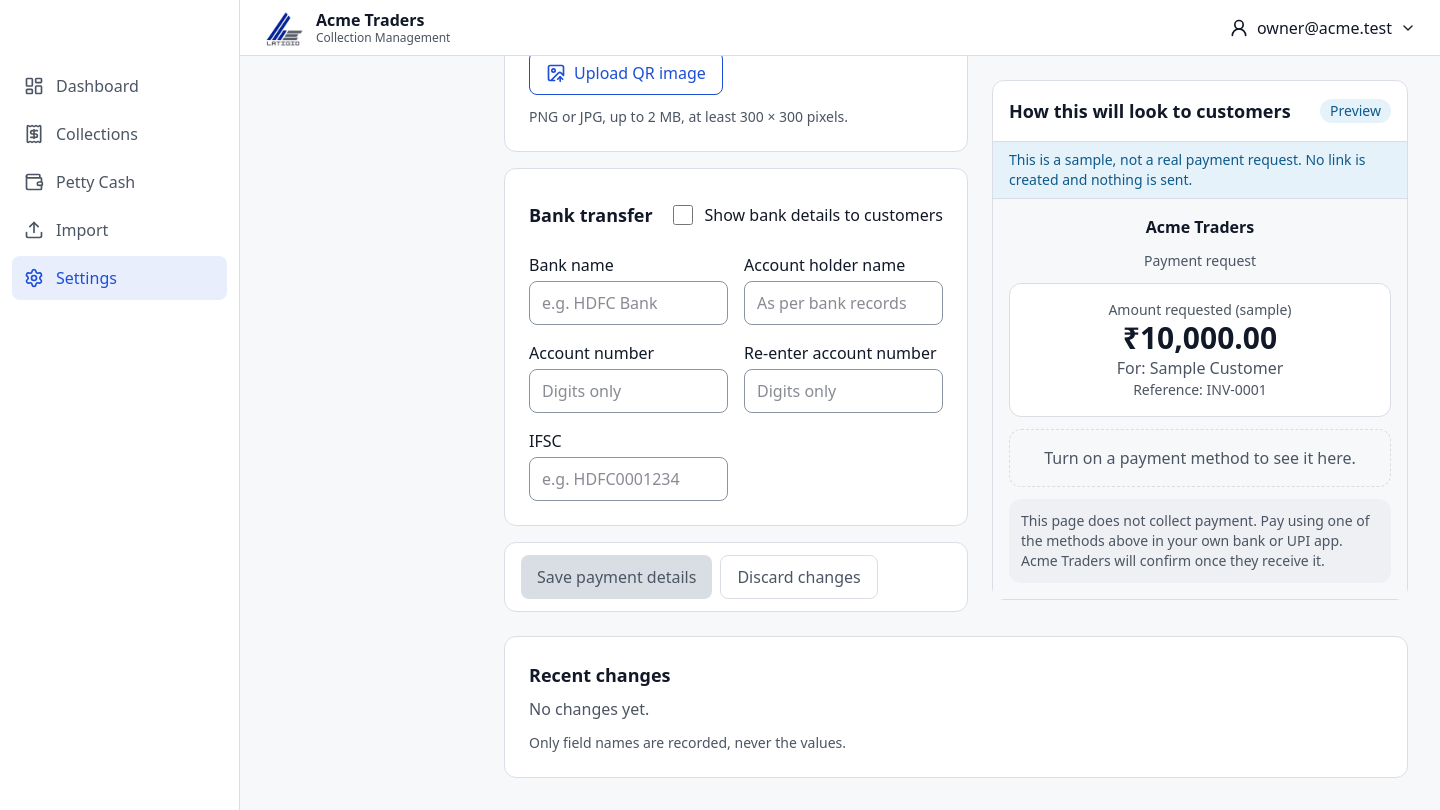
it: client-side validation › IFSC: HDFC1234567 -> Enter a valid IFSC, like HDFC0001234
The image size is (1440, 810).
(page scrolled)
Type "HDFC1234567" into the field labelled "IFSC" at x=628, y=479, box [529, 457, 728, 501]
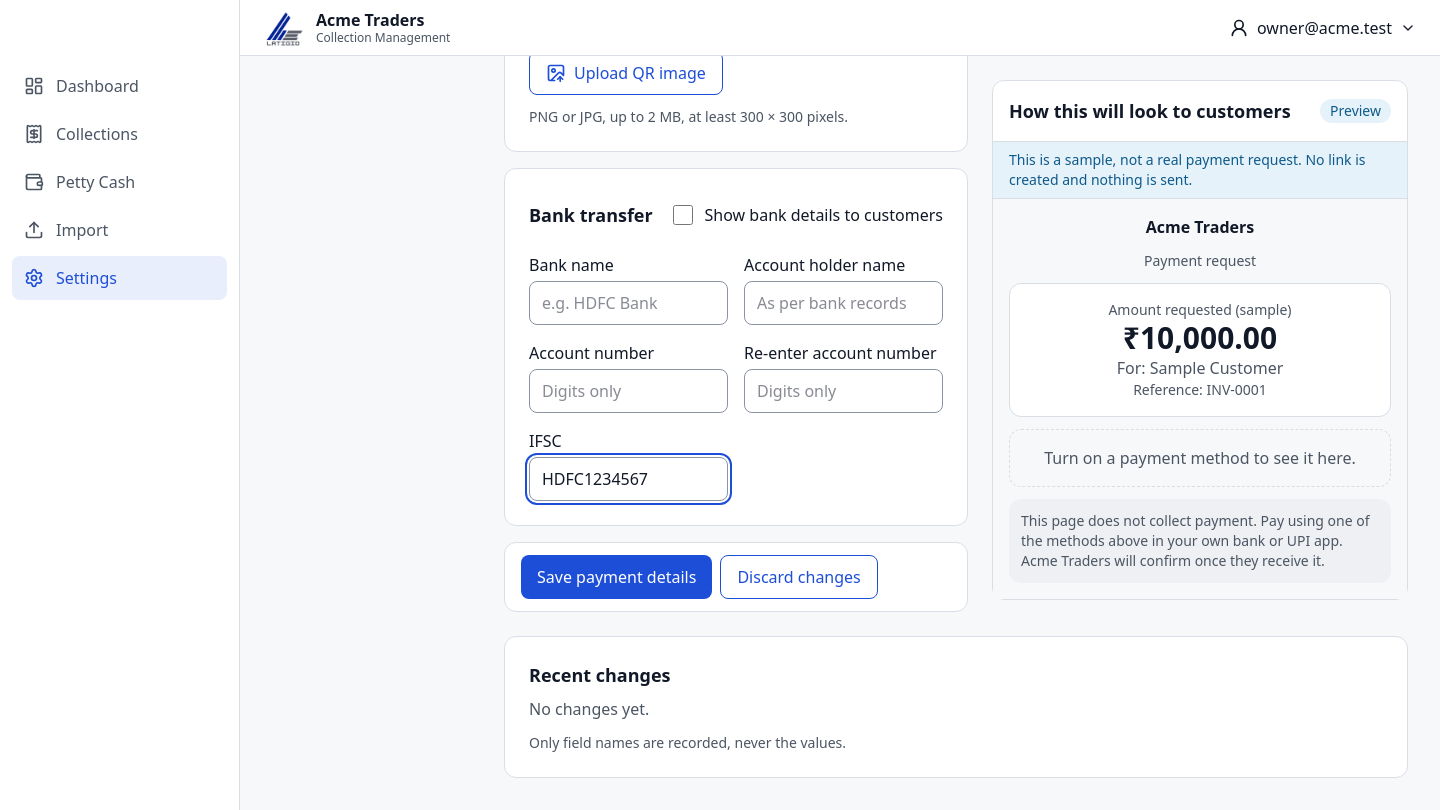
Click the button "Save payment details" at x=617, y=577, box [521, 555, 712, 599]
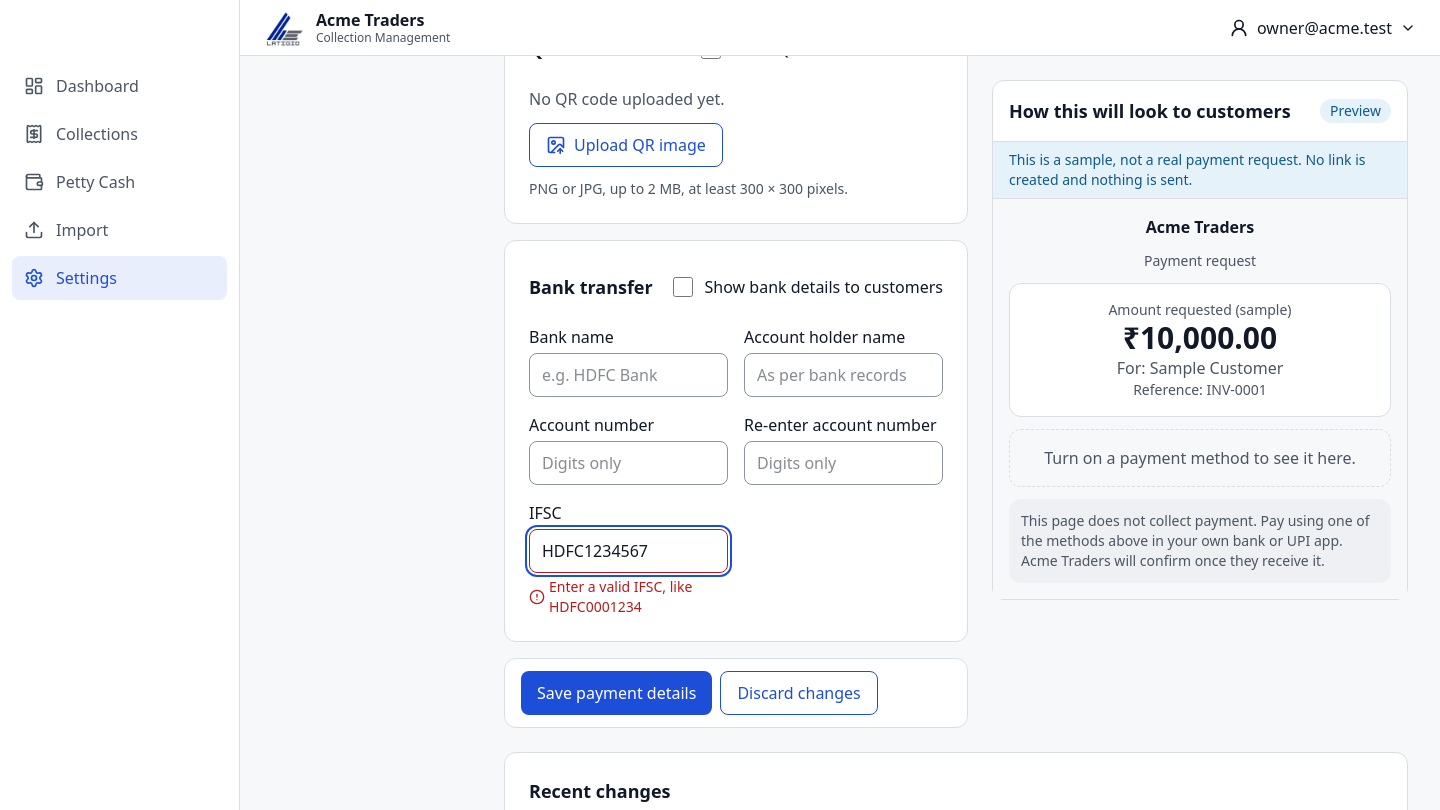
Now the text "Enter a valid IFSC, like HDFC0001234" is shown, box [529, 577, 692, 616]
